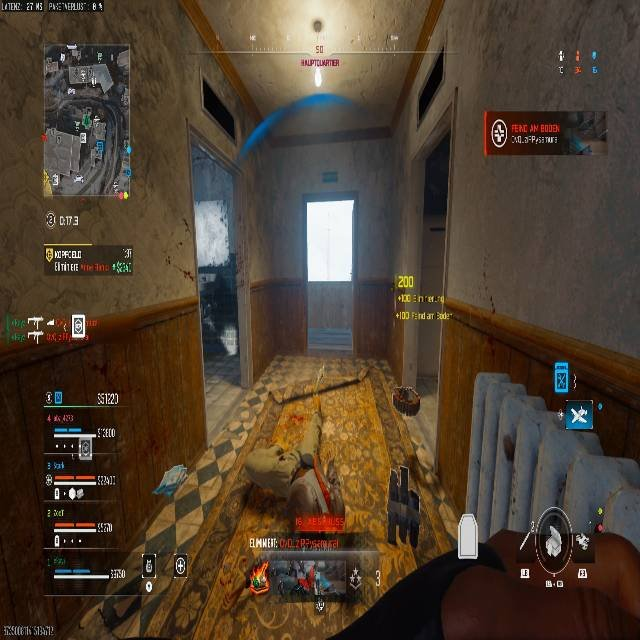player: (247, 559, 271, 594)
